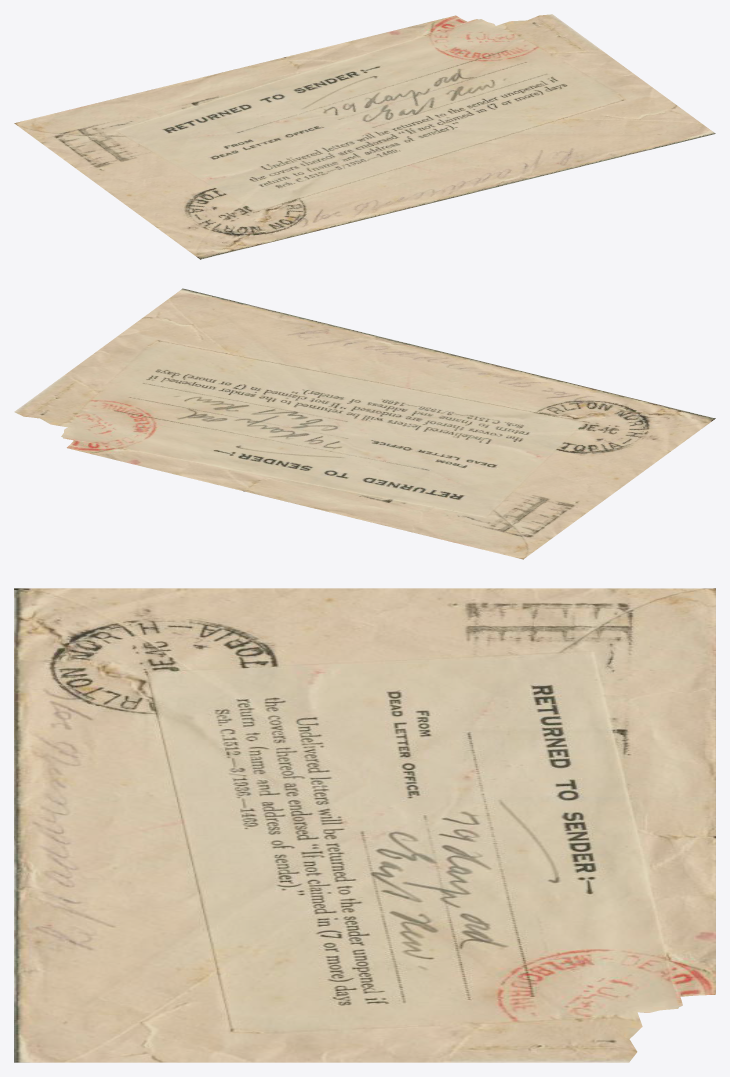
The model's file is Envelope.FBX.
3 renders of one model, top to bottom at view 1: azimuth 30°, elevation 25°; view 2: azimuth 150°, elevation 25°; view 3: azimuth 270°, elevation 25°, orthographic. The views are drawn at different scales.
Parts seen in each view (by area): view 1: Plane001; view 2: Plane001; view 3: Plane001.
Boxes of the visible parts, left/top/right/bottom form: Plane001: left=14, top=14, right=715, bottom=259; Plane001: left=14, top=288, right=715, bottom=559; Plane001: left=14, top=588, right=715, bottom=1062.
Size of the model in its own units: 3.61 by 1.38e-16 by 2.26.
Materials: 1 (1 with a texture image).
